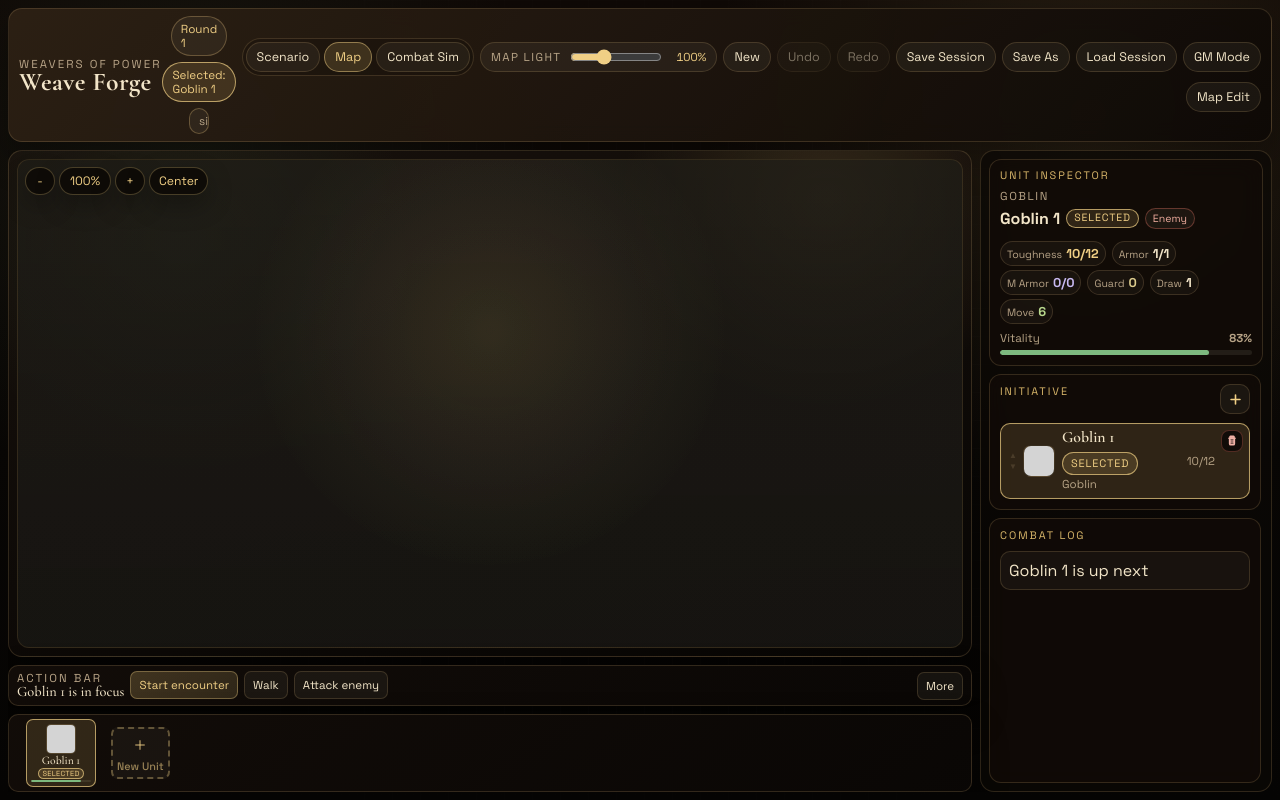
Test: App › shows batch draw results and observed precision needs
The image size is (1280, 800).
Click the button "Combat Sim". click: (423, 57)
box: [376,42,470,72]
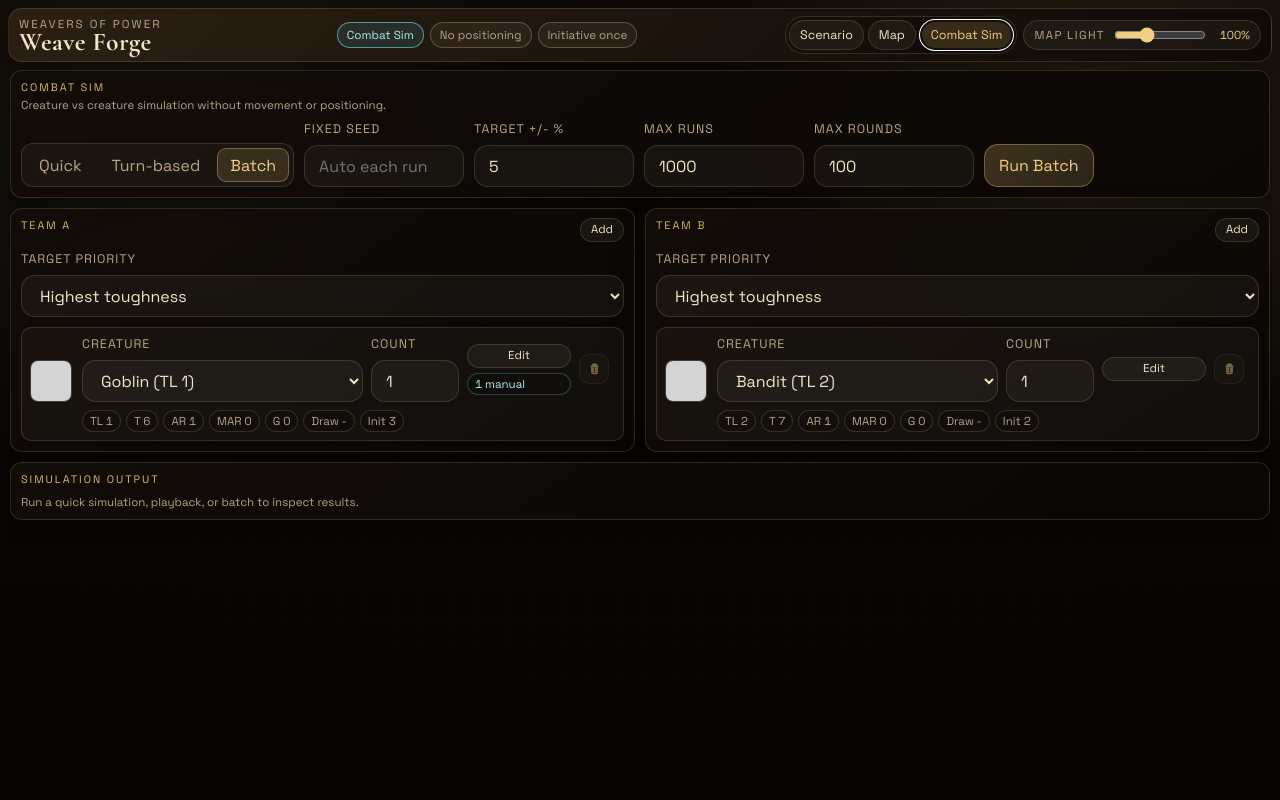
Click the button "Run Batch". click: (1039, 166)
box: [984,144,1094,187]
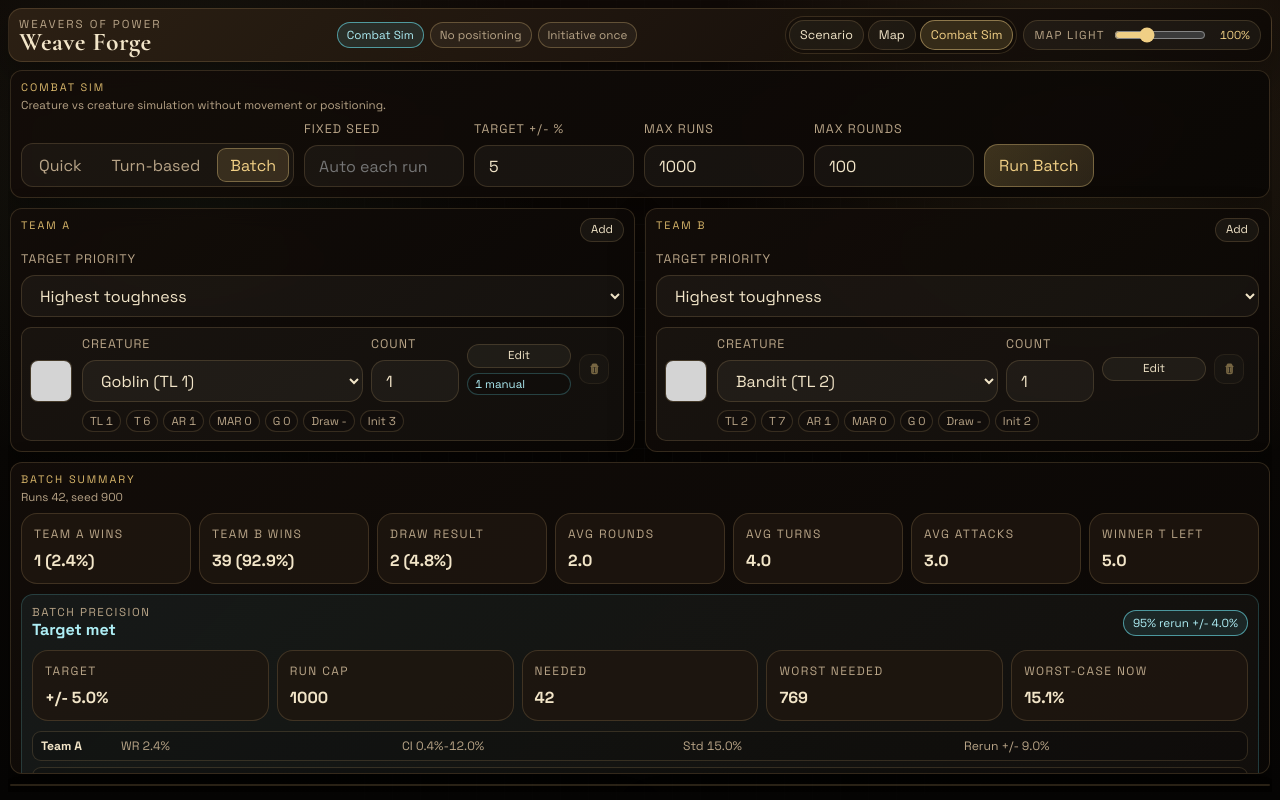
Check: the text "2 (4.8%)" is shown, box [390,550,452,571]
Check: the text "Draw result" is shown, box [390,526,484,542]
Check: the text "Worst needed" is shown, box [779,663,884,679]
